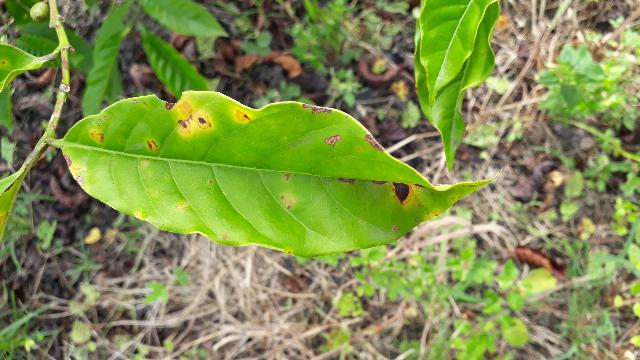rust_level_2: (62, 91, 506, 259)
